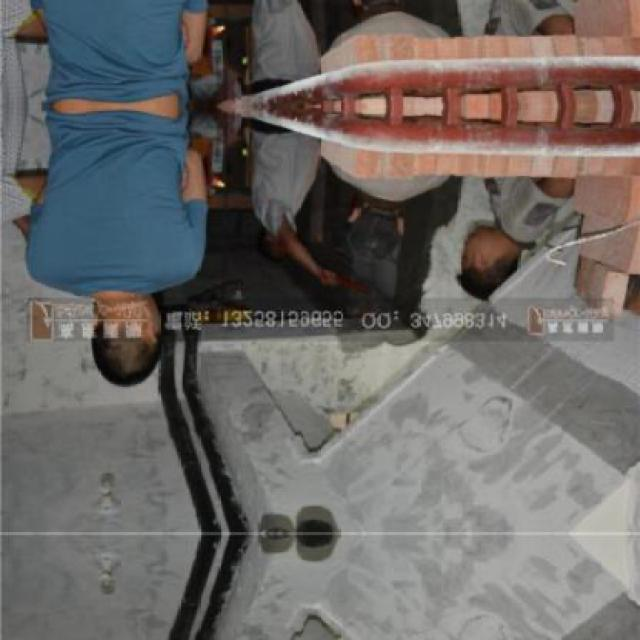sin casco: (427, 185, 553, 325), (70, 259, 167, 410)
